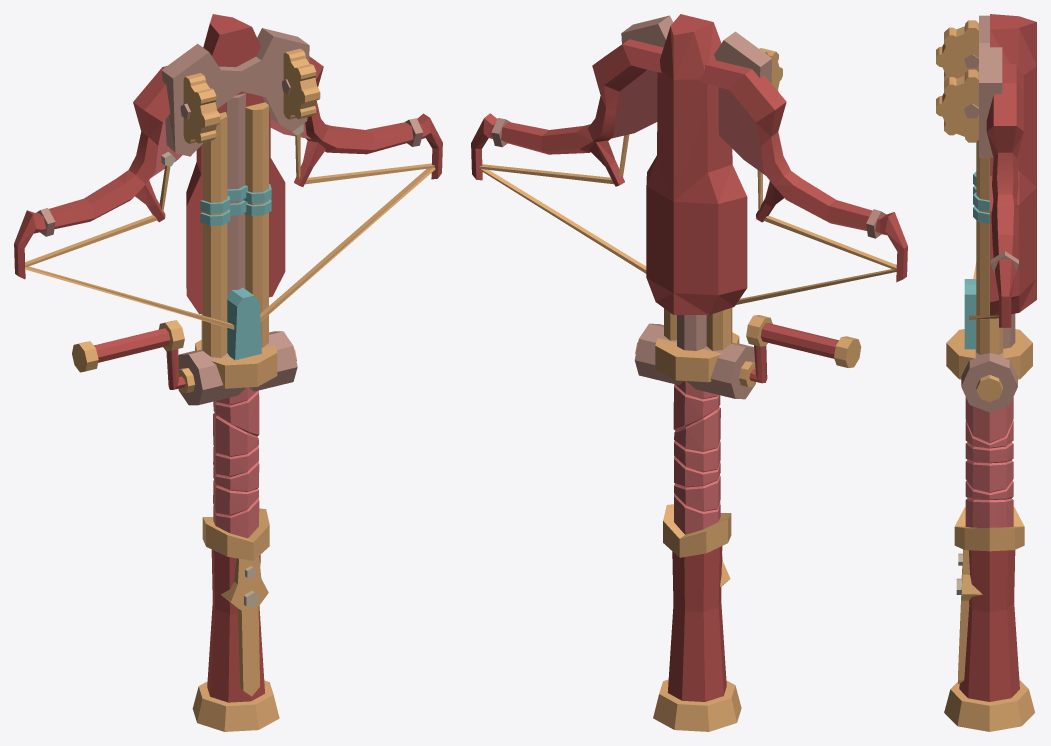
File: _crossbow_6.glb
3 renders of one model, left to right at view 1: azimuth 30°, elevation 25°; view 2: azimuth 150°, elevation 25°; view 3: azimuth 270°, elevation 25°, orthographic.
Parts seen in each view (by area): view 1: crossbow_6; view 2: crossbow_6; view 3: crossbow_6.
Part boxes in pixels (box(x1,y1,x2,y2)): crossbow_6: box(14, 14, 442, 731); crossbow_6: box(471, 14, 907, 731); crossbow_6: box(936, 14, 1036, 731).
Bounding box in the file's own units: 18642 × 28584 × 3782.
Materials: 1 (1 with a texture image).
